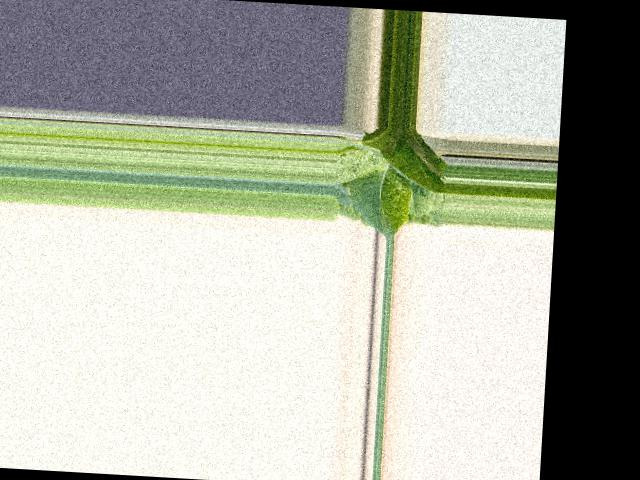lettuce: (343, 125, 447, 232)
